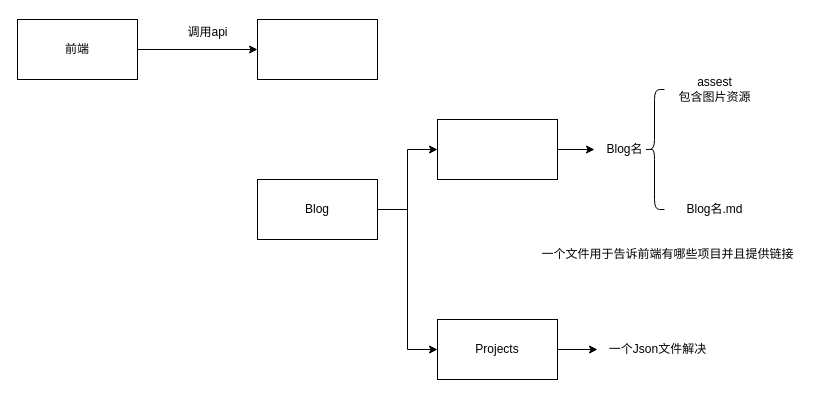
Some shapes in this 825 by 397 pixel diagram are drawn without their labels. Each missing label, with the box of its shape:
Blogs: (436, 118, 558, 180)
Gitee: (256, 18, 378, 80)
